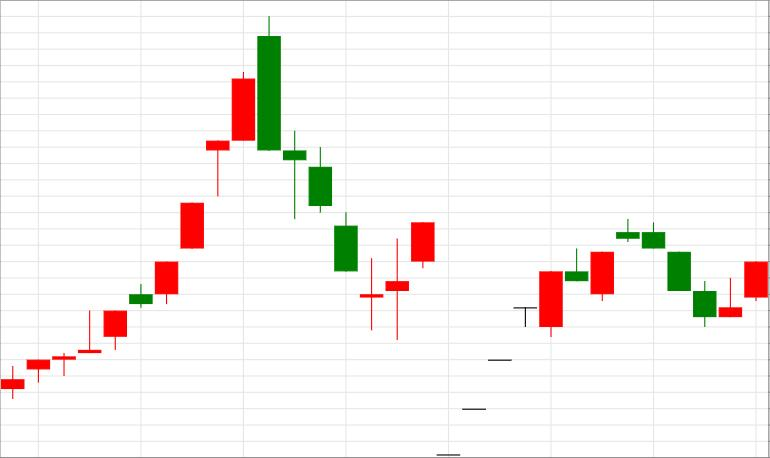bearish_engulfing_fall: (104, 16, 281, 350)
